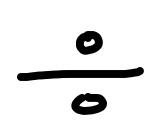div: (17, 31, 144, 115)
